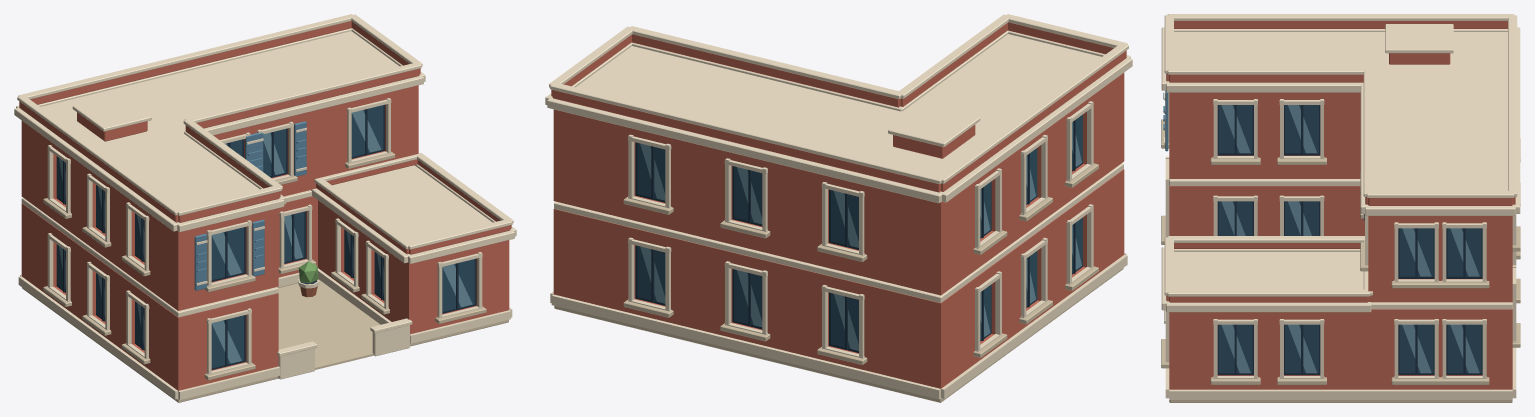
Rendered from small_courtyard_house.glb.
3 views of the same model, side by side, from view 1: azimuth 30°, elevation 25°; view 2: azimuth 150°, elevation 25°; view 3: azimuth 270°, elevation 25° (orthographic). The views are drawn at different scales.
Parts seen in each view (by area): view 1: SmallCourtyardHouse_StaticMesh; view 2: SmallCourtyardHouse_StaticMesh; view 3: SmallCourtyardHouse_StaticMesh.
Boxes of the visible parts, x1,y1,x2,y2 form: SmallCourtyardHouse_StaticMesh: [14, 14, 516, 402]; SmallCourtyardHouse_StaticMesh: [545, 14, 1132, 402]; SmallCourtyardHouse_StaticMesh: [1161, 14, 1520, 402].
Size of the model in its own units: 12.67 by 6.92 by 10.47.
